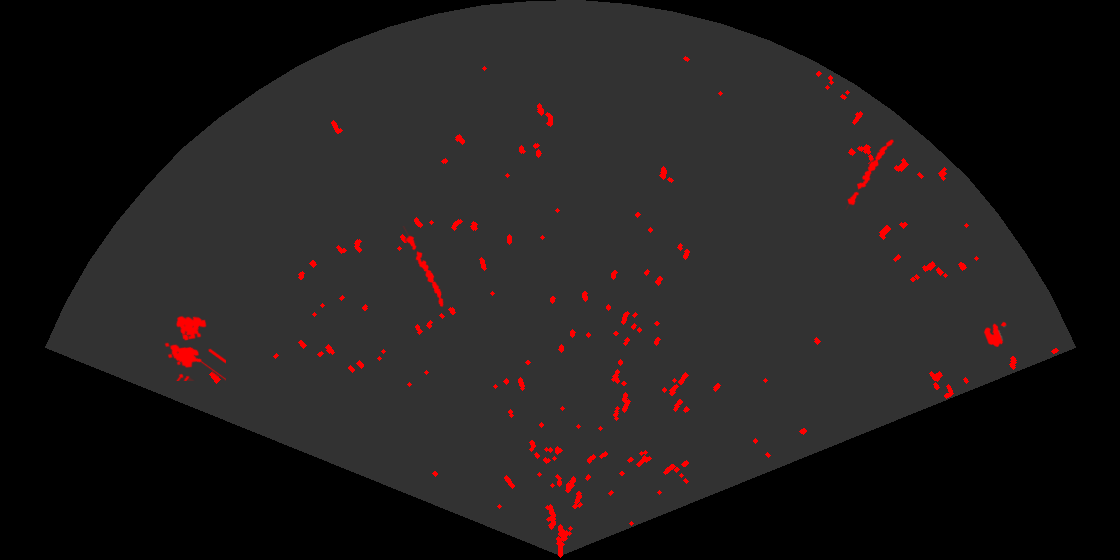ball: (982, 320, 1008, 349)
cage: (163, 314, 226, 381)
chain: (844, 138, 895, 210), (401, 226, 445, 309)
